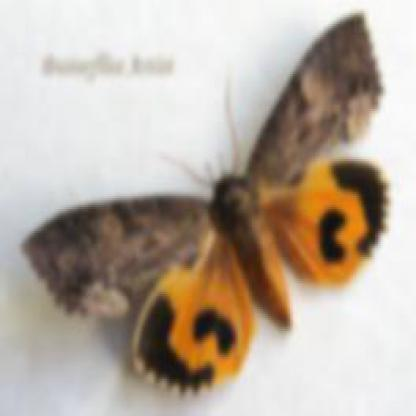fruit sucking moth: (20, 12, 390, 398)
